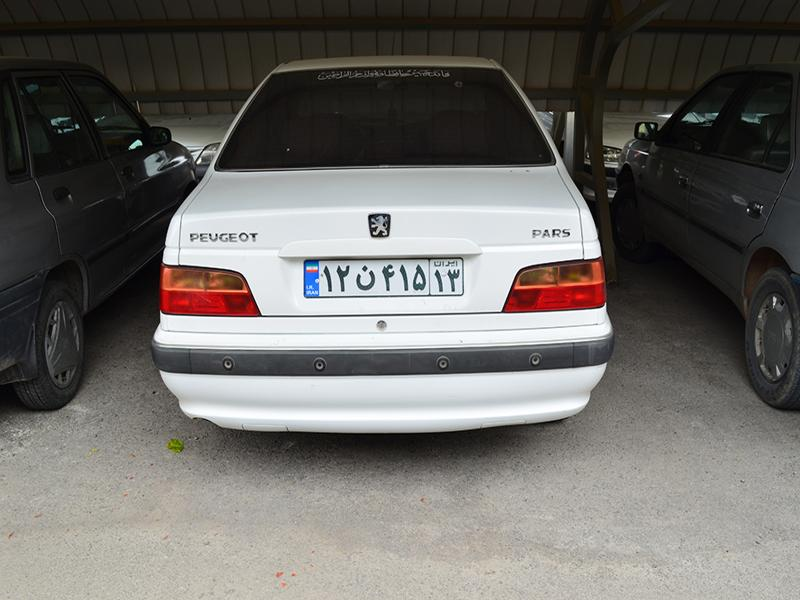Plate: (287, 254, 481, 305)
